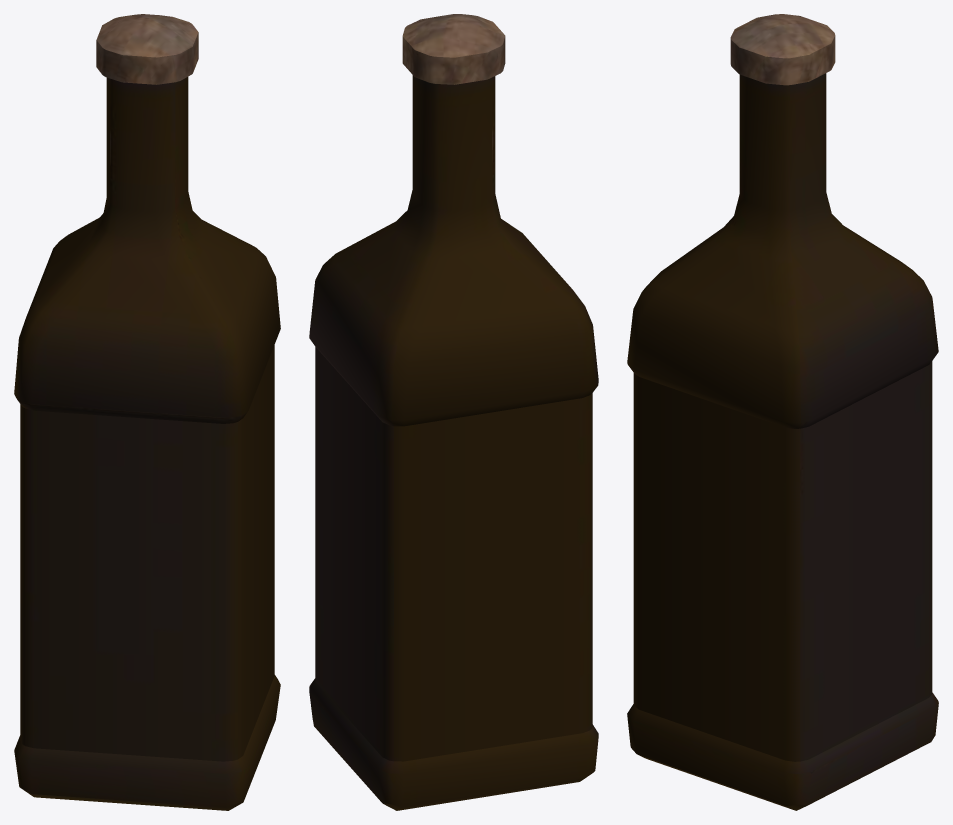
The model's file is bottle_glass_2.glb.
3 renders of one model, left to right at view 1: azimuth 30°, elevation 25°; view 2: azimuth 150°, elevation 25°; view 3: azimuth 270°, elevation 25°, orthographic.
Parts seen in each view (by area): view 1: Whiskey_Material.002_0; view 2: Whiskey_Material.002_0; view 3: Whiskey_Material.002_0.
Boxes of the visible parts, x1=… form: Whiskey_Material.002_0: x1=14, y1=14, x2=280, y2=810; Whiskey_Material.002_0: x1=309, y1=14, x2=598, y2=810; Whiskey_Material.002_0: x1=627, y1=14, x2=938, y2=810.
Size of the model in its own units: 0.1158 by 0.3 by 0.1158.
Materials: 1 (1 with a texture image).
